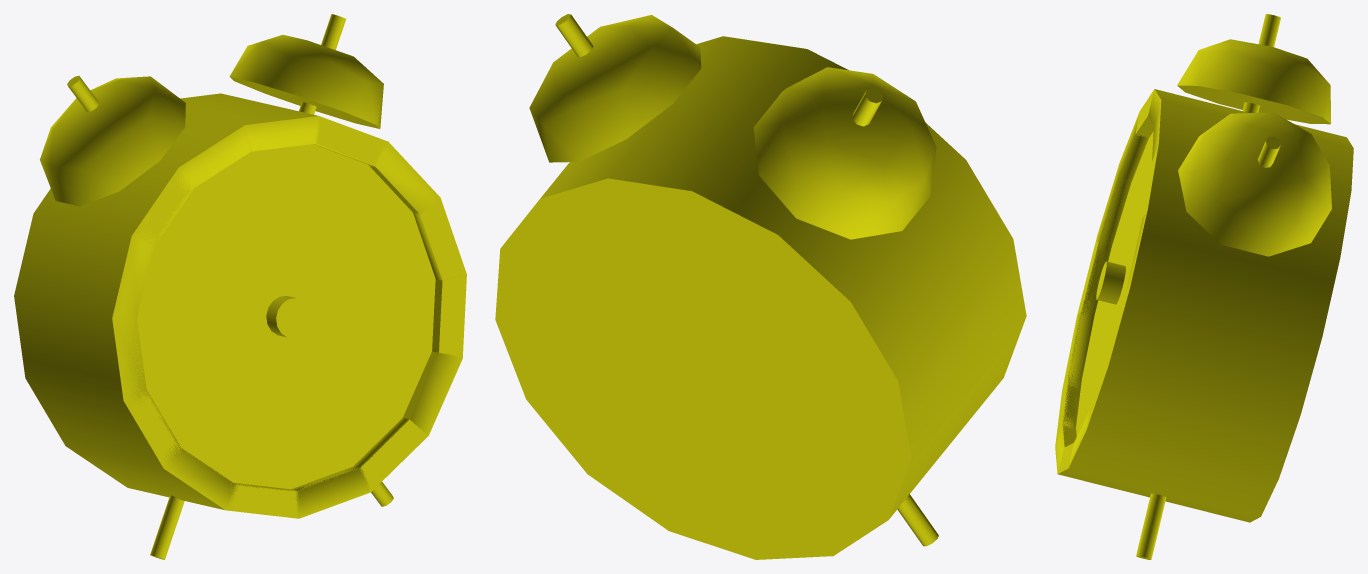
The model's file is clock.fbx.
The picture shows the model from 3 angles, left to right: view 1: azimuth 30°, elevation 25°; view 2: azimuth 150°, elevation 25°; view 3: azimuth 270°, elevation 25°; orthographic projection. The views are drawn at different scales.
Parts seen in each view (by area): view 1: Mesh; view 2: Mesh; view 3: Mesh.
Boxes of the visible parts, x1,y1,x2,y2 form: Mesh: [14, 14, 466, 559]; Mesh: [495, 14, 1026, 559]; Mesh: [1055, 14, 1353, 559].
Bounding box in the file's own units: 9.89 × 11.91 × 7.48.
